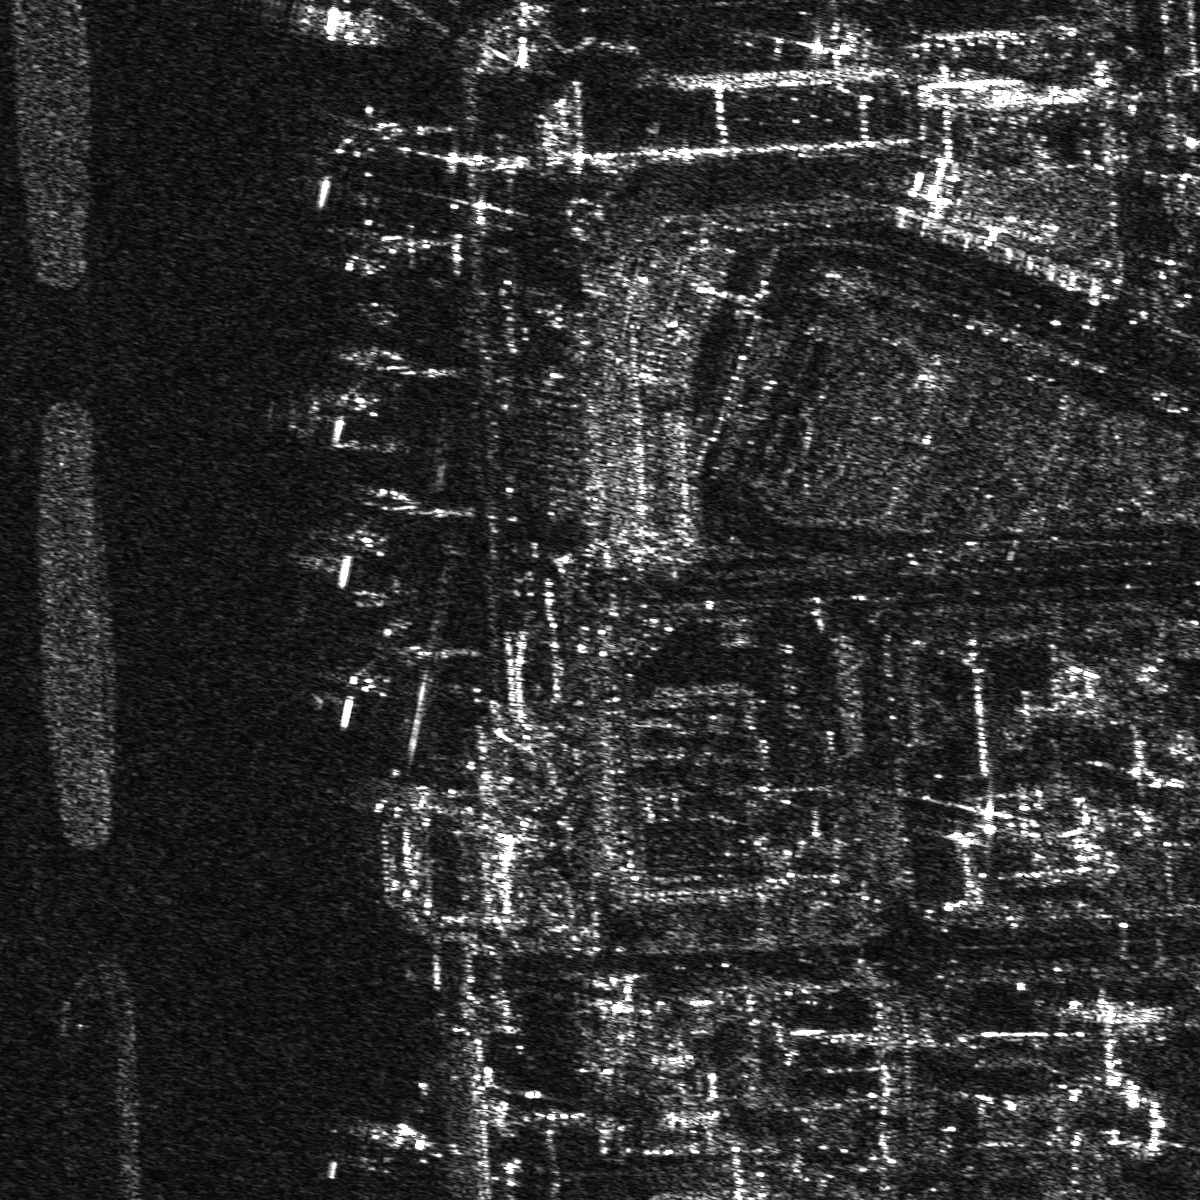A220: (316, 1112, 456, 1182)
